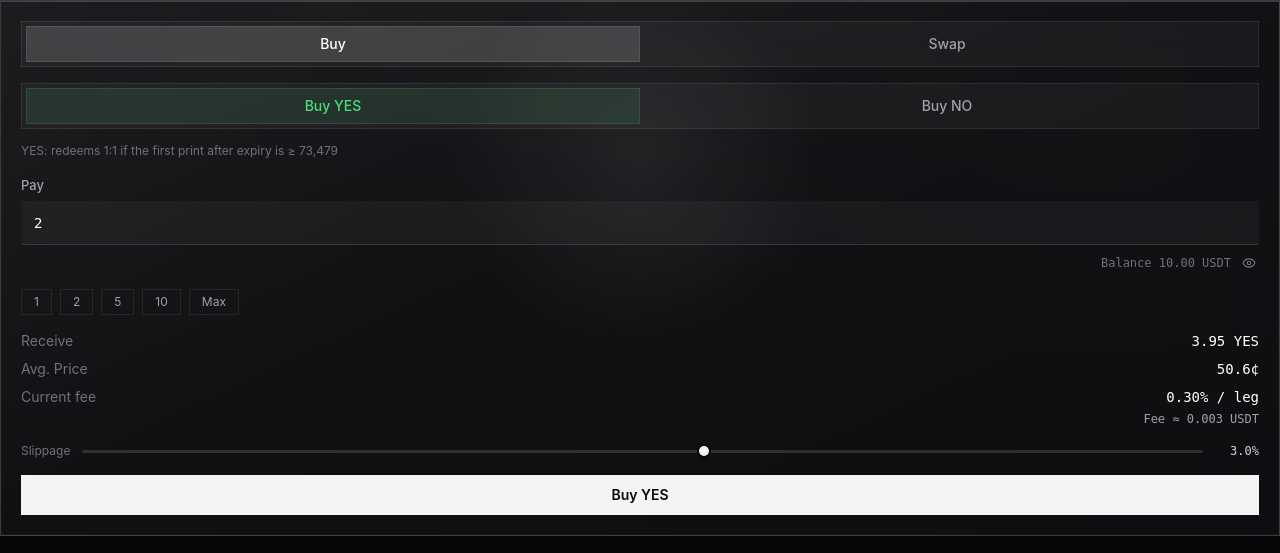
Scenario: TradeDesk 下单前置校验 › 金额非法：提示 Enter a valid size 且禁用
Replace the text in the field with "abc" at (640, 223), box [21,201,1259,245]
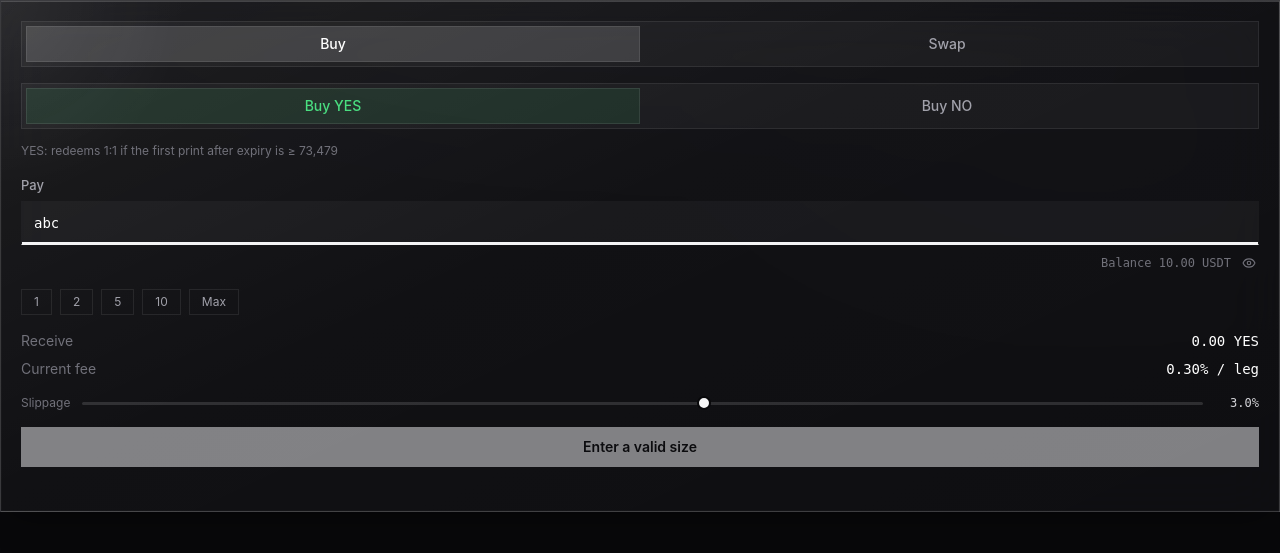
Expected: the button "Enter a valid size" is disabled, [21,427,1259,467]
Expected: the button "Enter a valid size" is shown, [21,427,1259,467]
